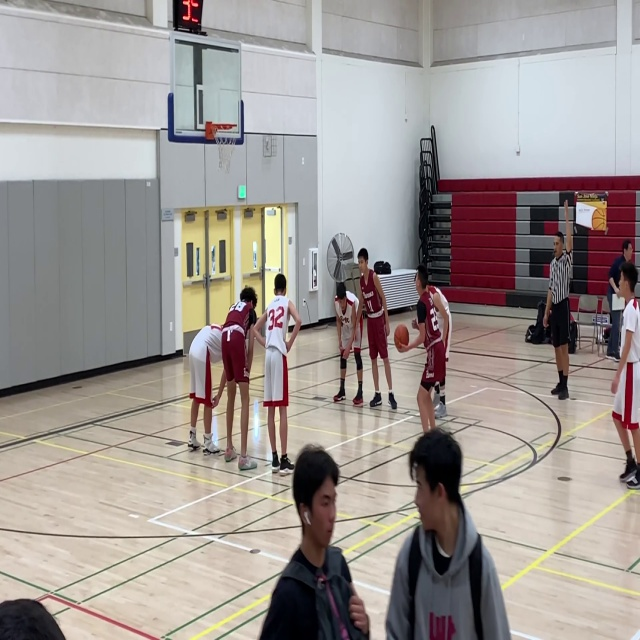Basketball: (394, 324, 409, 350)
